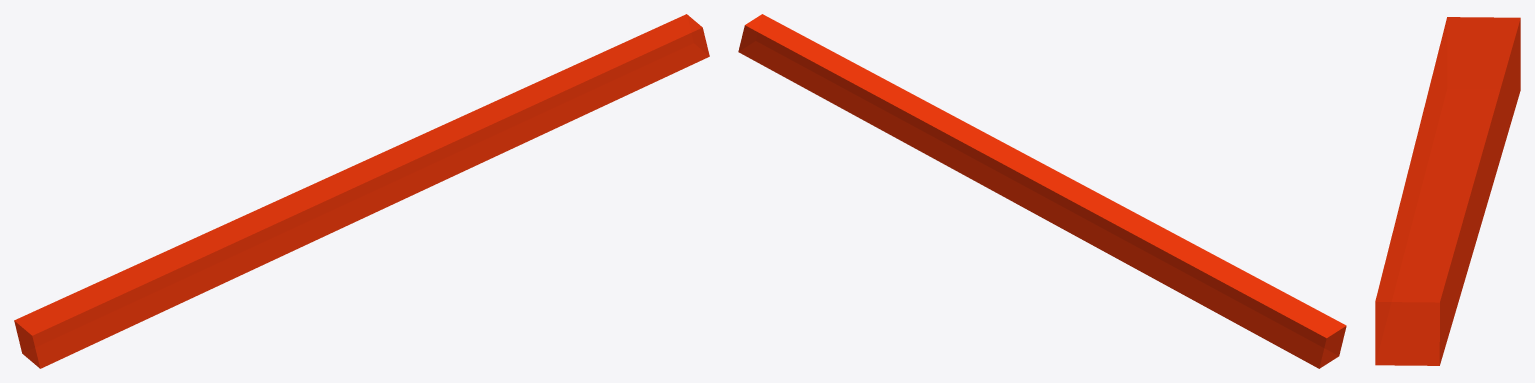
The model's file is Event_420107950_EErechit_34.fbx.
3 views of the same model, side by side, from view 1: azimuth 30°, elevation 25°; view 2: azimuth 150°, elevation 25°; view 3: azimuth 270°, elevation 25° (orthographic). The views are drawn at different scales.
Parts seen in each view (by area): view 1: Model; view 2: Model; view 3: Model.
Part boxes in pixels (x1,y1,x2,y2): Model: [14, 14, 709, 368]; Model: [738, 14, 1346, 368]; Model: [1375, 17, 1520, 365].
Bounding box in the file's own units: 1.58 × 0.4561 × 0.1633.
